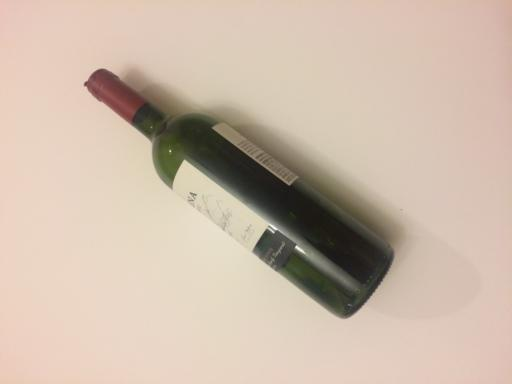botolkaca: (85, 68, 394, 320)
